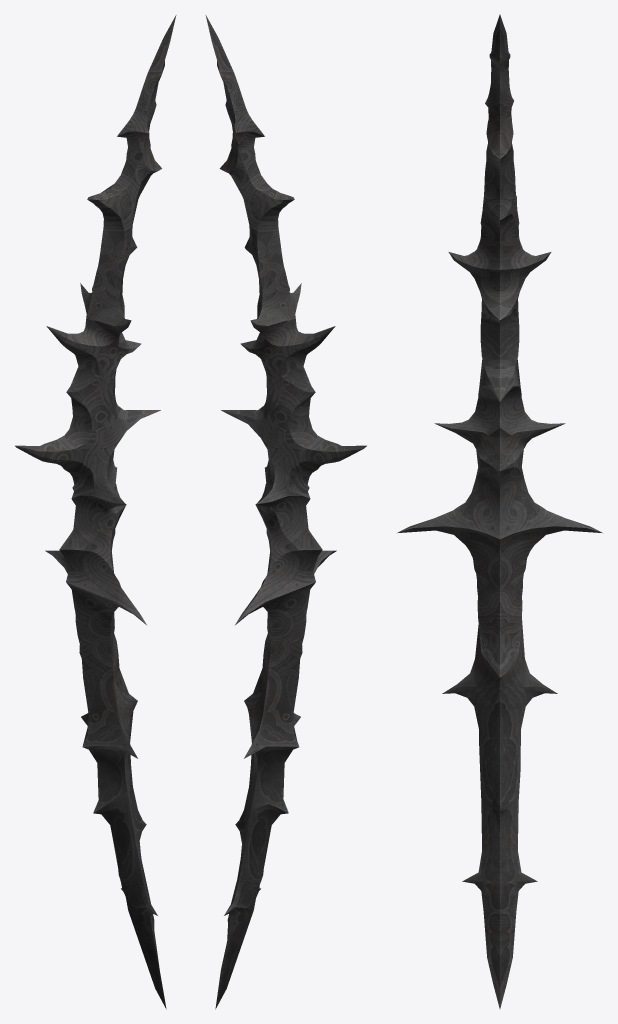
Rendered from bg_rad_kamen_pillar09lowpoly_sm_hhk.obj.
The picture shows the model from 3 angles, left to right: view 1: azimuth 30°, elevation 25°; view 2: azimuth 150°, elevation 25°; view 3: azimuth 270°, elevation 25°; orthographic projection.
Parts seen in each view (by area): view 1: bg_rad_kamen_pillar09lowpoly_sm_hhk_1, bg_rad_kamen_pillar09lowpoly_sm_hhk_0; view 2: bg_rad_kamen_pillar09lowpoly_sm_hhk_1, bg_rad_kamen_pillar09lowpoly_sm_hhk_0; view 3: bg_rad_kamen_pillar09lowpoly_sm_hhk_1, bg_rad_kamen_pillar09lowpoly_sm_hhk_0.
Boxes of the visible parts, x1=… form: bg_rad_kamen_pillar09lowpoly_sm_hhk_1: x1=45, y1=15, x2=176, y2=1009; bg_rad_kamen_pillar09lowpoly_sm_hhk_0: x1=15, y1=316, x2=160, y2=624; bg_rad_kamen_pillar09lowpoly_sm_hhk_1: x1=205, y1=15, x2=336, y2=1009; bg_rad_kamen_pillar09lowpoly_sm_hhk_0: x1=221, y1=316, x2=366, y2=624; bg_rad_kamen_pillar09lowpoly_sm_hhk_1: x1=398, y1=14, x2=601, y2=1008; bg_rad_kamen_pillar09lowpoly_sm_hhk_0: x1=398, y1=253, x2=601, y2=539.
Size of the model in its own units: 1.64 by 9.6 by 1.8.
Materials: 2 (2 with a texture image).
